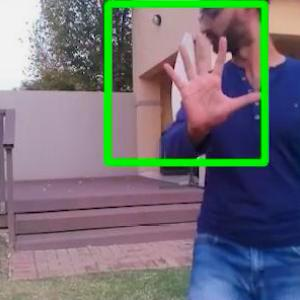follow_hand: (161, 30, 266, 135)
